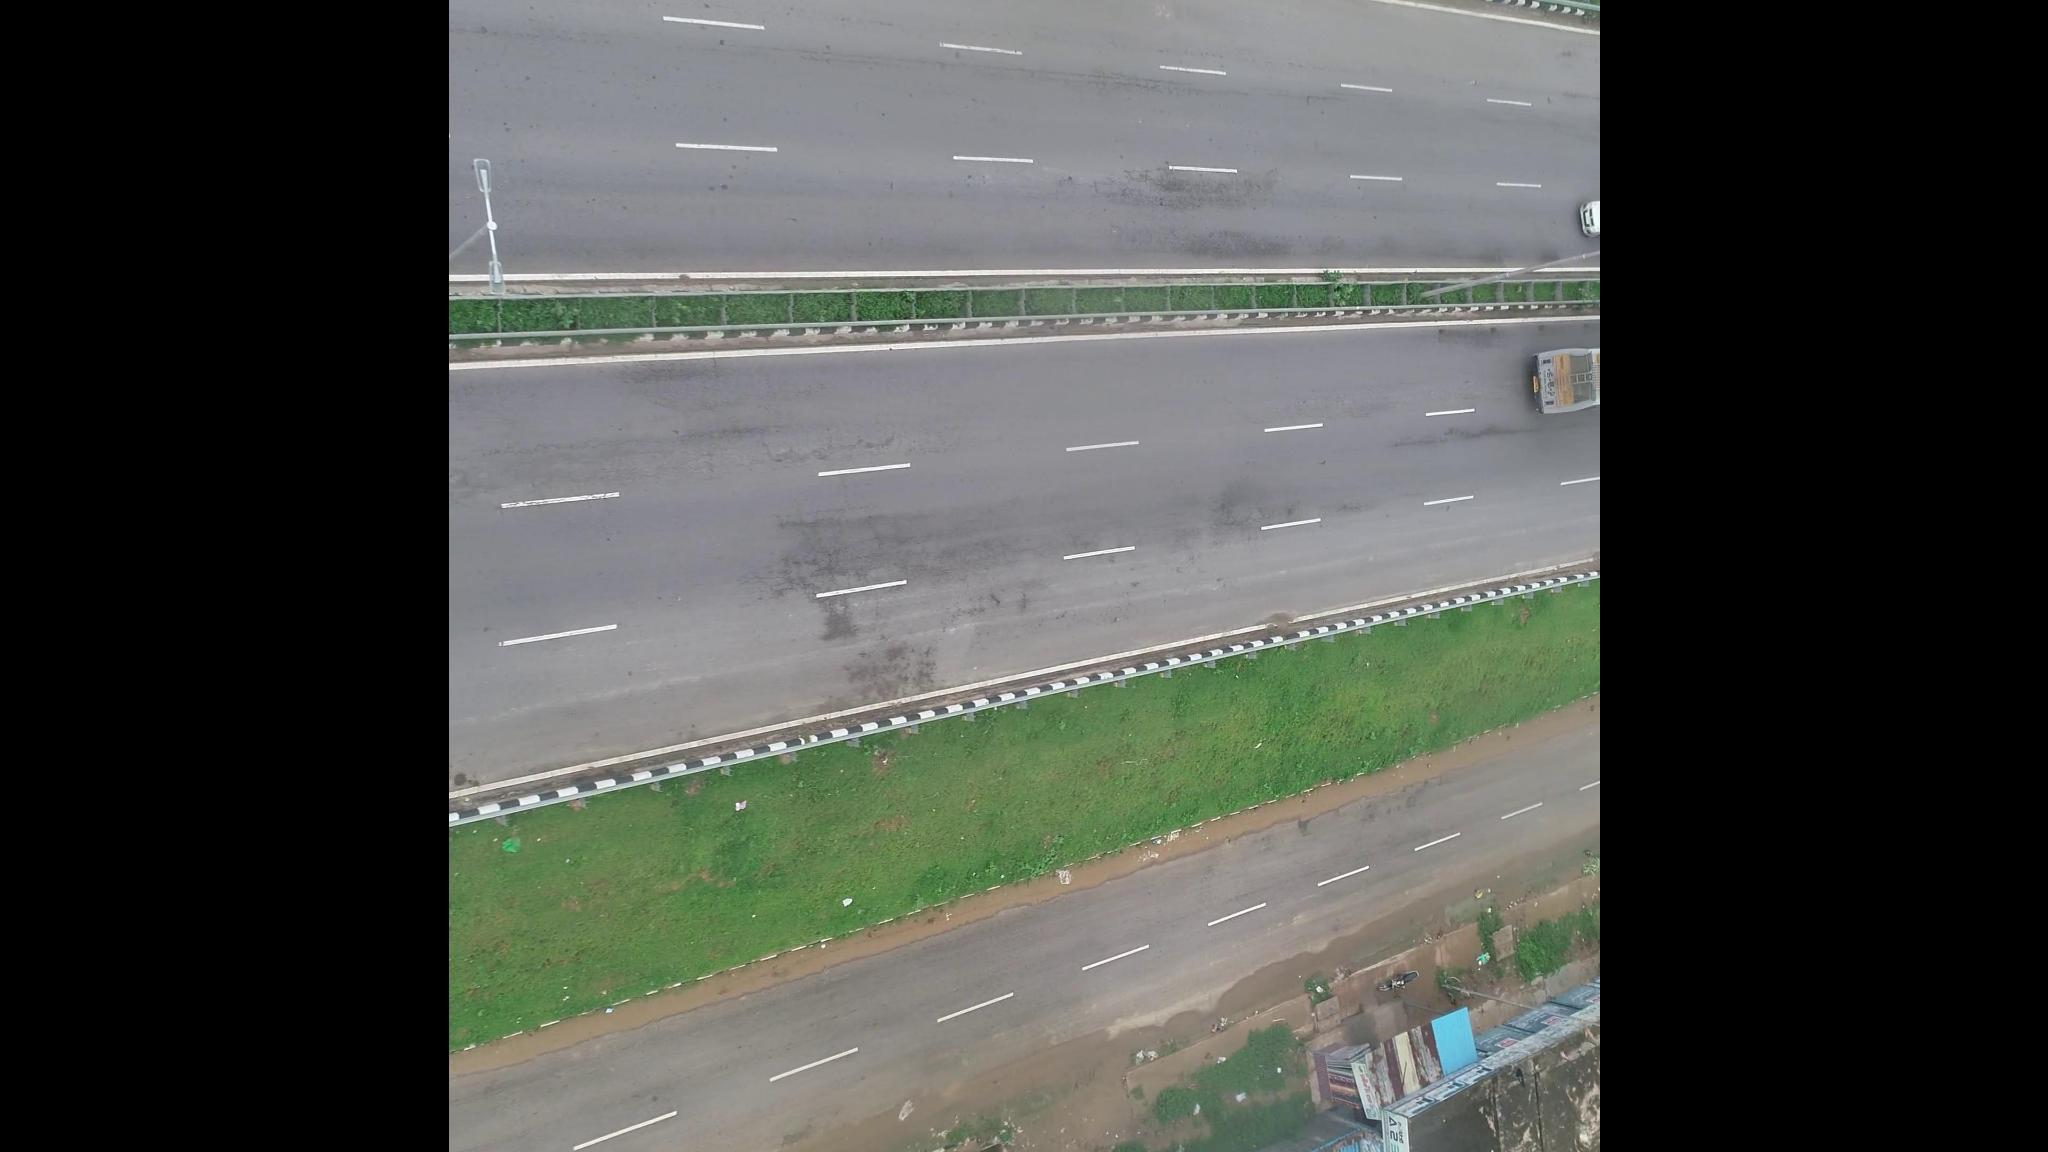Cracks: (1009, 55, 1227, 110), (1391, 422, 1559, 457)
Ravelling: (1058, 158, 1269, 212)
